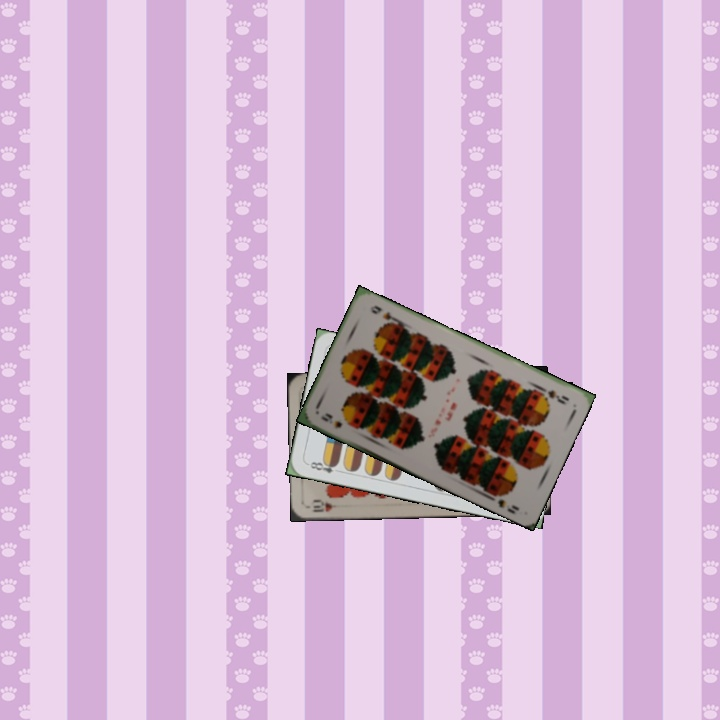E8: (303, 457, 340, 476)
H10: (308, 496, 346, 515)
S9: (535, 383, 571, 406), (317, 409, 345, 432)
